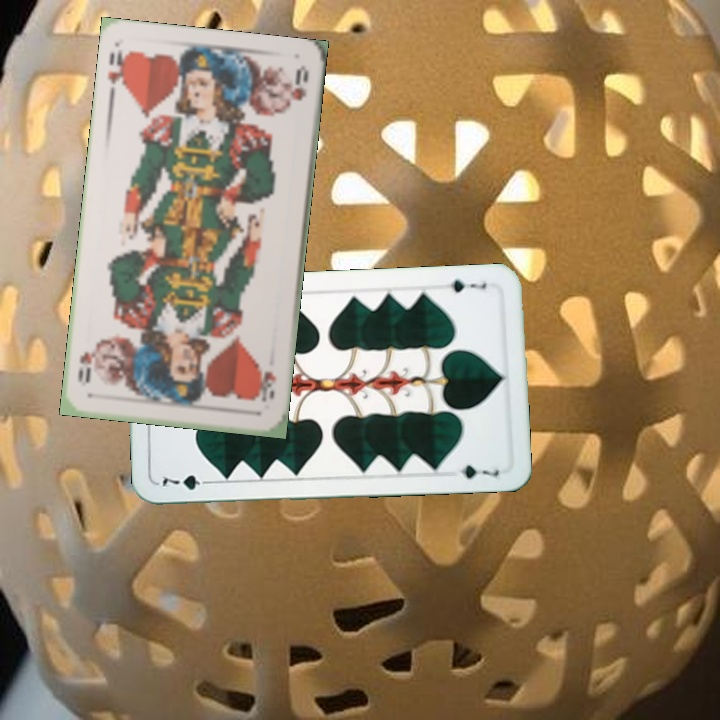G7: (158, 470, 216, 492), (446, 276, 489, 295)
HO: (103, 45, 132, 102), (255, 367, 278, 404)
